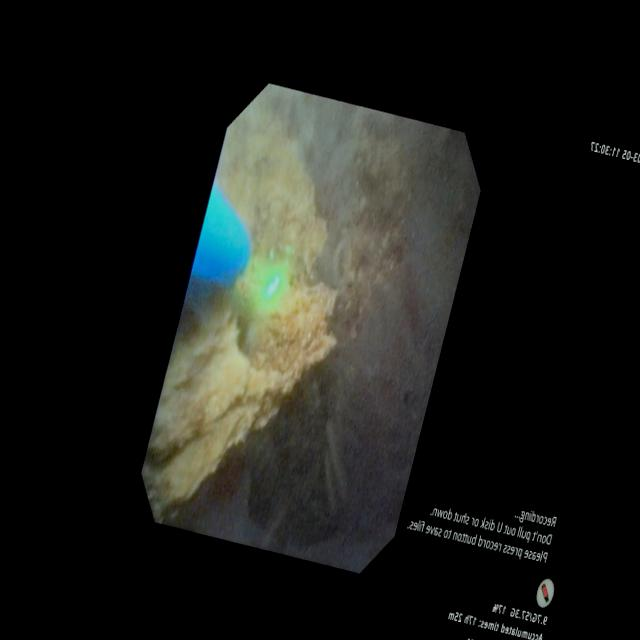laser_dot: (255, 262, 289, 311)
stone-new: (141, 110, 337, 519)
